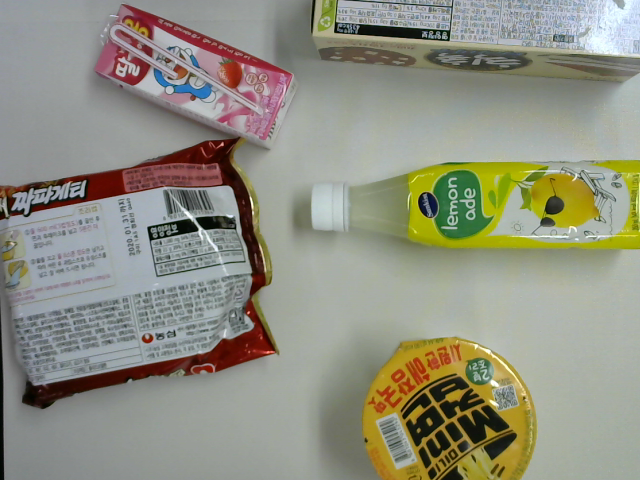Chicchok_Tiramisu: (310, 1, 640, 91)
Hejangmini: (360, 334, 541, 480)
Sichuan_Chapaghetti: (1, 137, 285, 415)
Strawberry_E_Mong: (92, 1, 299, 152)
Sunkist_Lemonaid_Pet: (307, 157, 640, 257)
